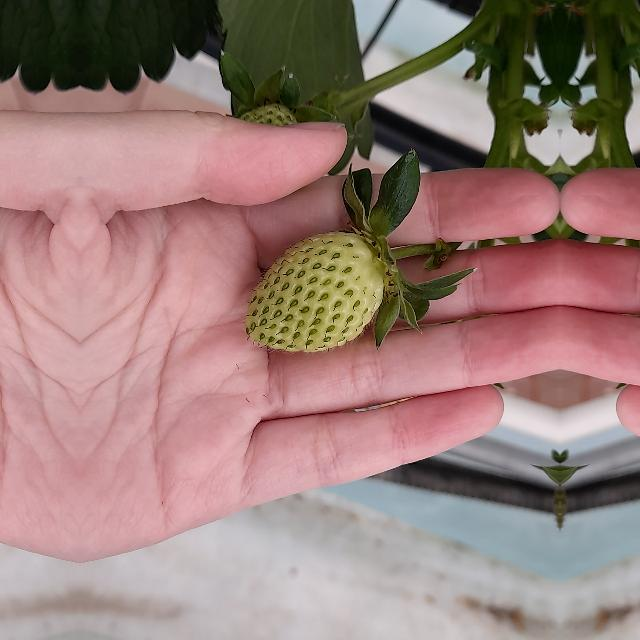Health_25: (244, 230, 384, 352)
